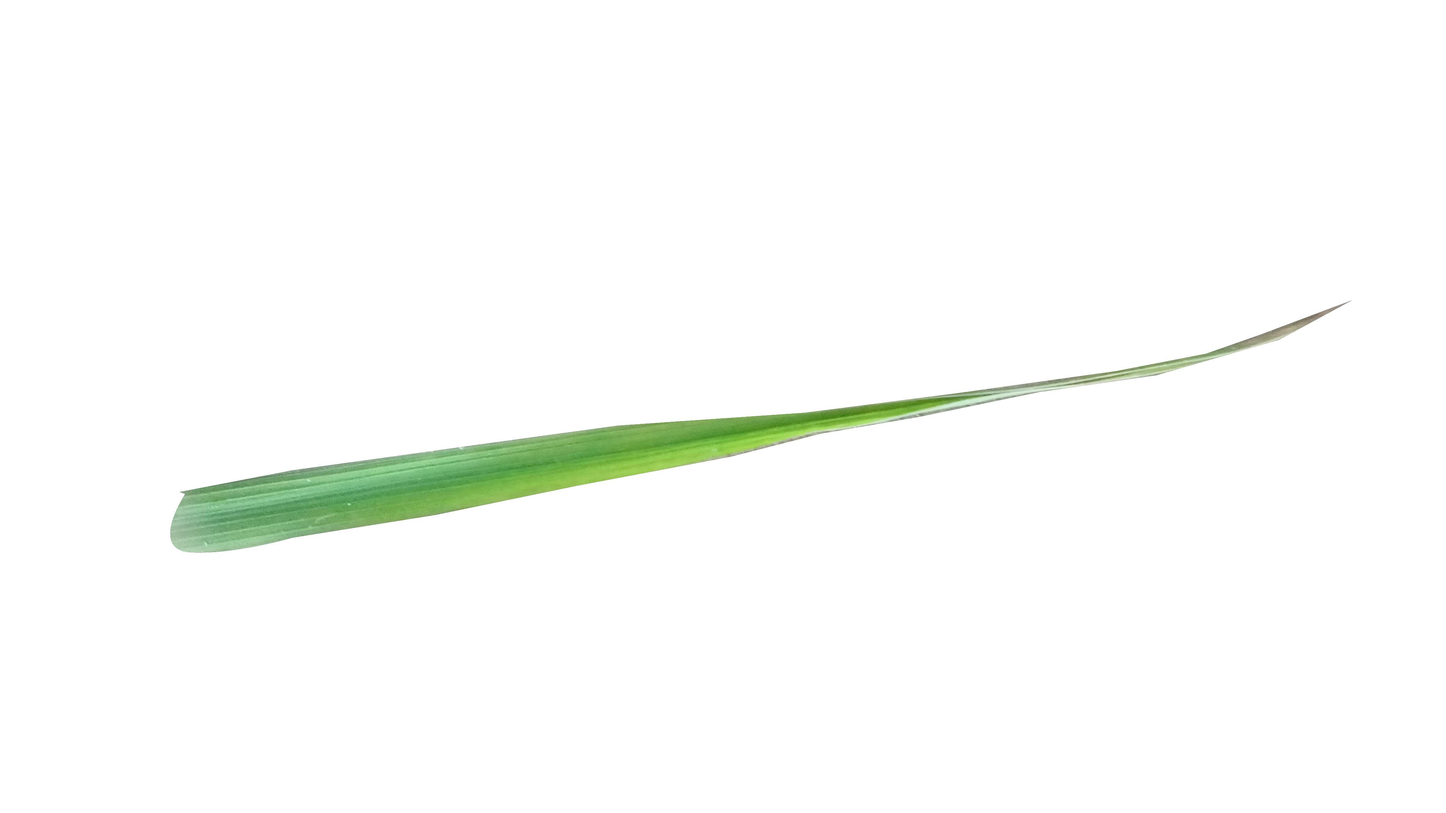Tungro: (337, 408, 945, 525)
